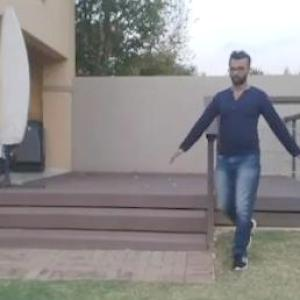land: (166, 50, 300, 276)
